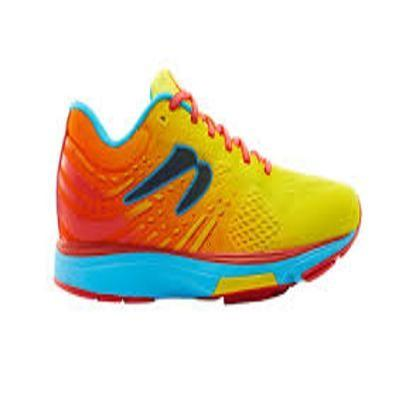not trash: (54, 67, 361, 306)
